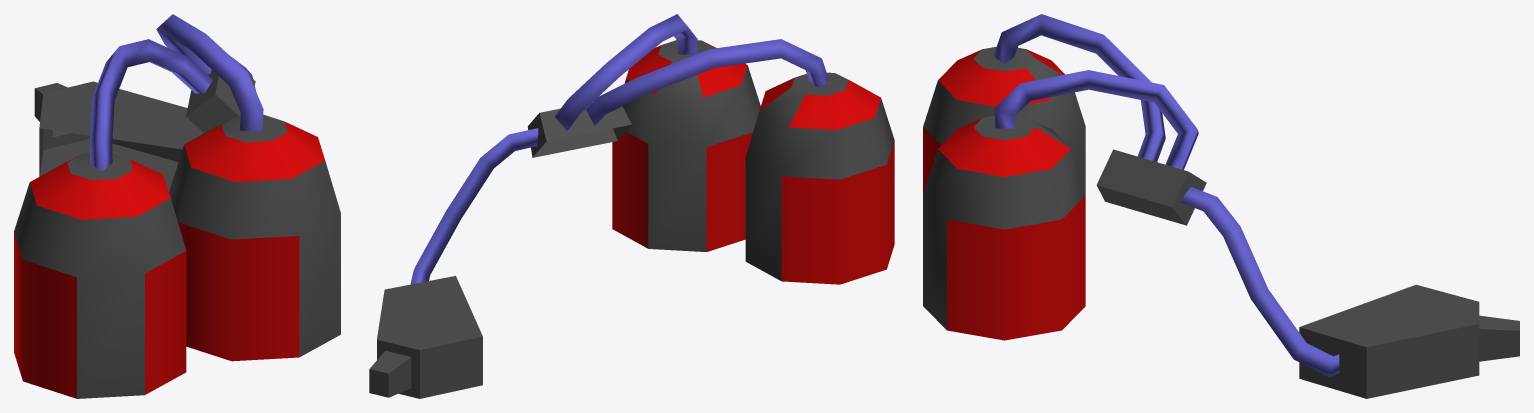
File: FlameThrower.FBX
3 renders of one model, left to right at view 1: azimuth 30°, elevation 25°; view 2: azimuth 150°, elevation 25°; view 3: azimuth 270°, elevation 25°, orthographic. The views are drawn at different scales.
Visible parts, largest first — view 1: Object01, Capsule02, Line01; view 2: Object01, Capsule02, Line01; view 3: Object01, Capsule02, Line01.
Boxes of the visible parts, x1,y1,x2,y2 form: Object01: [14, 70, 340, 398]; Capsule02: [14, 121, 325, 398]; Line01: [89, 14, 263, 170]; Object01: [369, 40, 894, 398]; Capsule02: [612, 42, 894, 284]; Line01: [410, 14, 828, 284]; Object01: [923, 46, 1519, 398]; Capsule02: [923, 49, 1085, 340]; Line01: [993, 14, 1339, 376].
Bounding box in the file's own units: 101 × 70.8 × 147.
